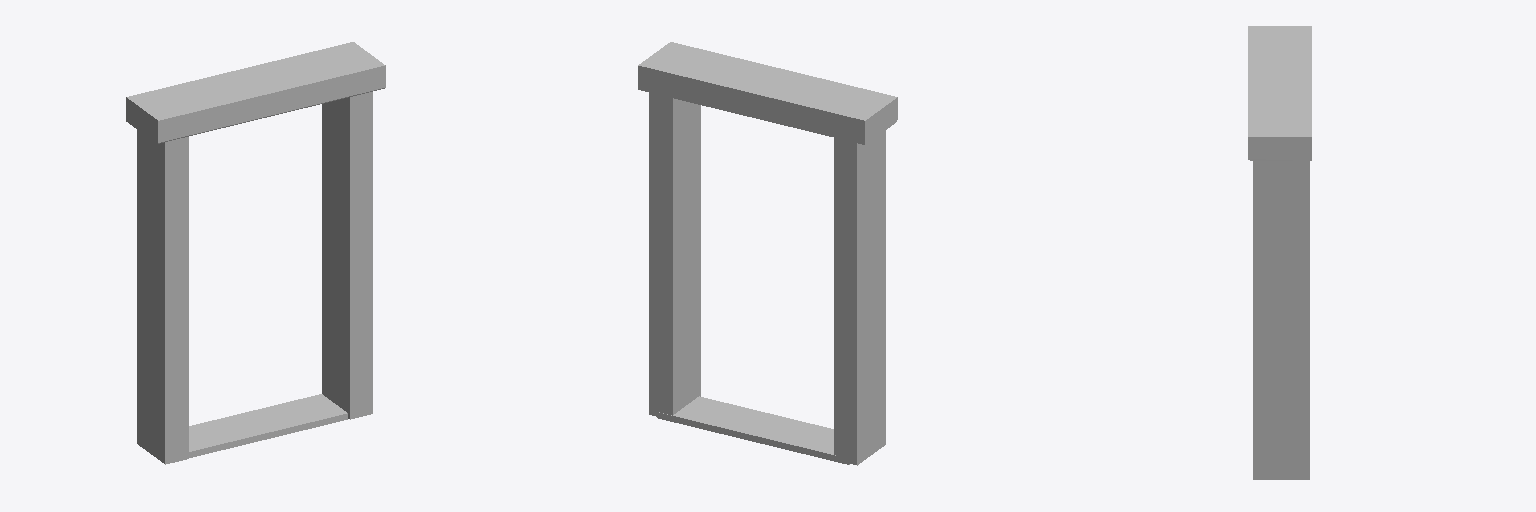
Rendered from DoorFrame_Flat_WoodLight.obj.
3 renders of one model, left to right at view 1: azimuth 30°, elevation 25°; view 2: azimuth 150°, elevation 25°; view 3: azimuth 270°, elevation 25°, orthographic.
Parts seen in each view (by area): view 1: DoorFrame_Flat_WoodLight; view 2: DoorFrame_Flat_WoodLight; view 3: DoorFrame_Flat_WoodLight.
Boxes of the visible parts, x1,y1,x2,y2 form: DoorFrame_Flat_WoodLight: [126, 42, 385, 464]; DoorFrame_Flat_WoodLight: [638, 42, 897, 465]; DoorFrame_Flat_WoodLight: [1248, 26, 1311, 479].
Size of the model in its own units: 1.57 by 2.31 by 0.3885.